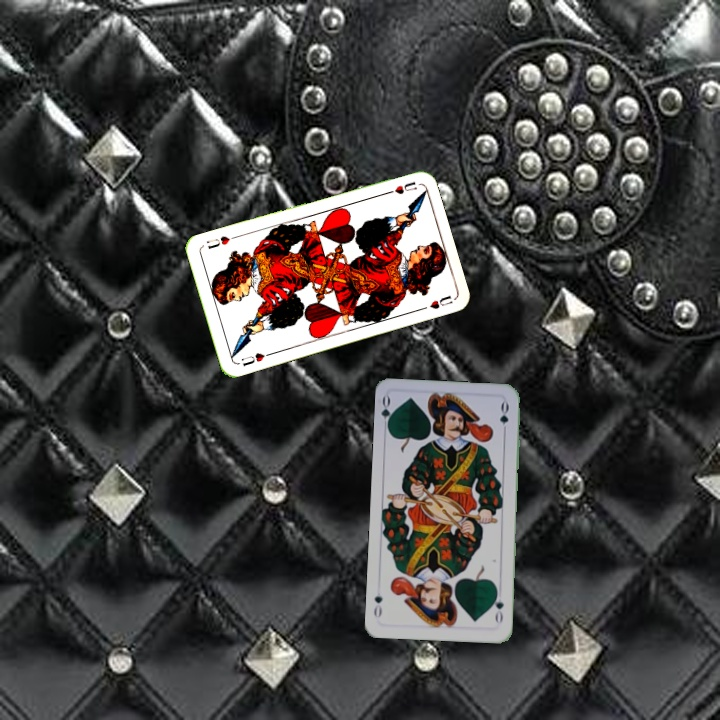GO: (377, 393, 397, 433), (489, 587, 506, 627)
HU: (380, 177, 419, 197), (237, 349, 274, 369)
